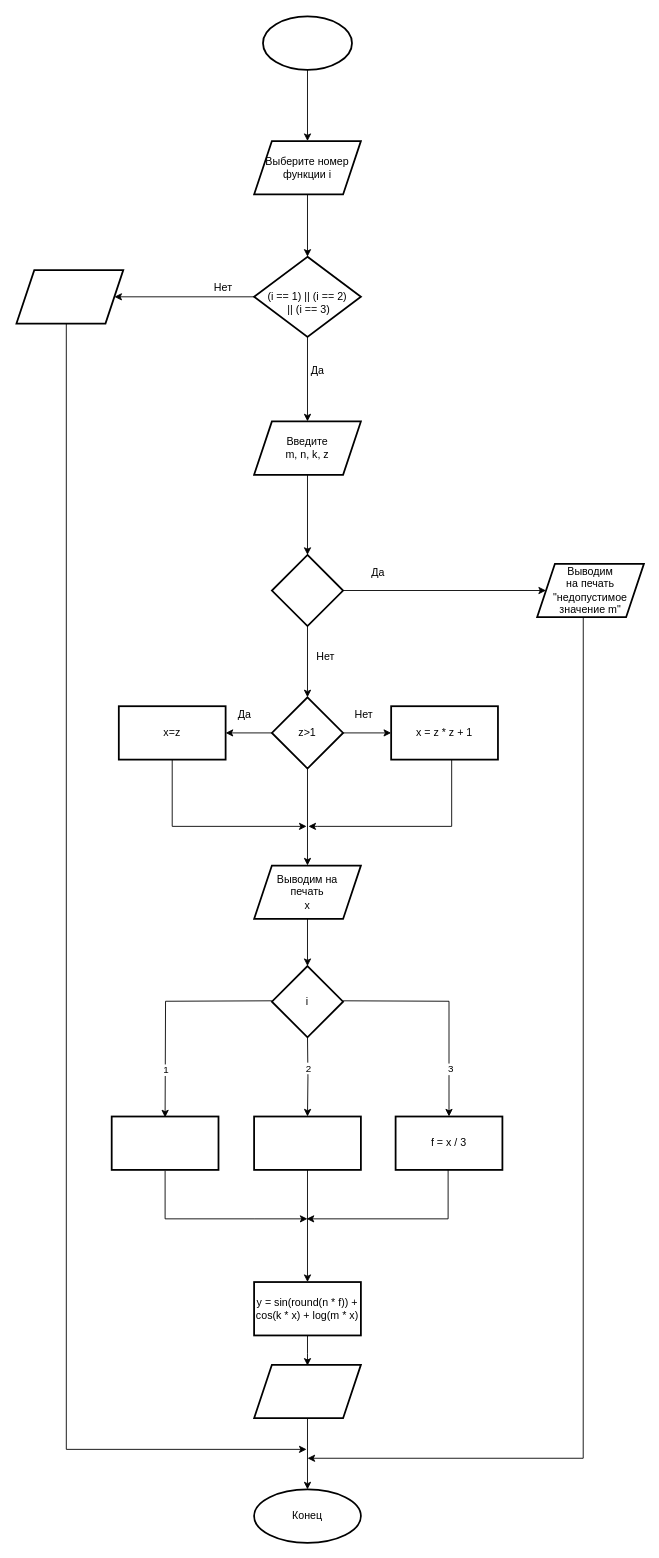
The diagram is 659 pixels wide and 1558 high, and some of its shapes have lost their labels. Here are the shapes that lost their labels. From the top down, the centre of each, then its label:
(x=307, y=42): Начало
(x=69, y=296): Выводим на печать "f(x) не выбрана"
(x=307, y=590): m<=0
(x=164, y=1142): f = 2 * x
(x=307, y=1142): f = x * x * x
(x=307, y=1391): Выводим на печать у
